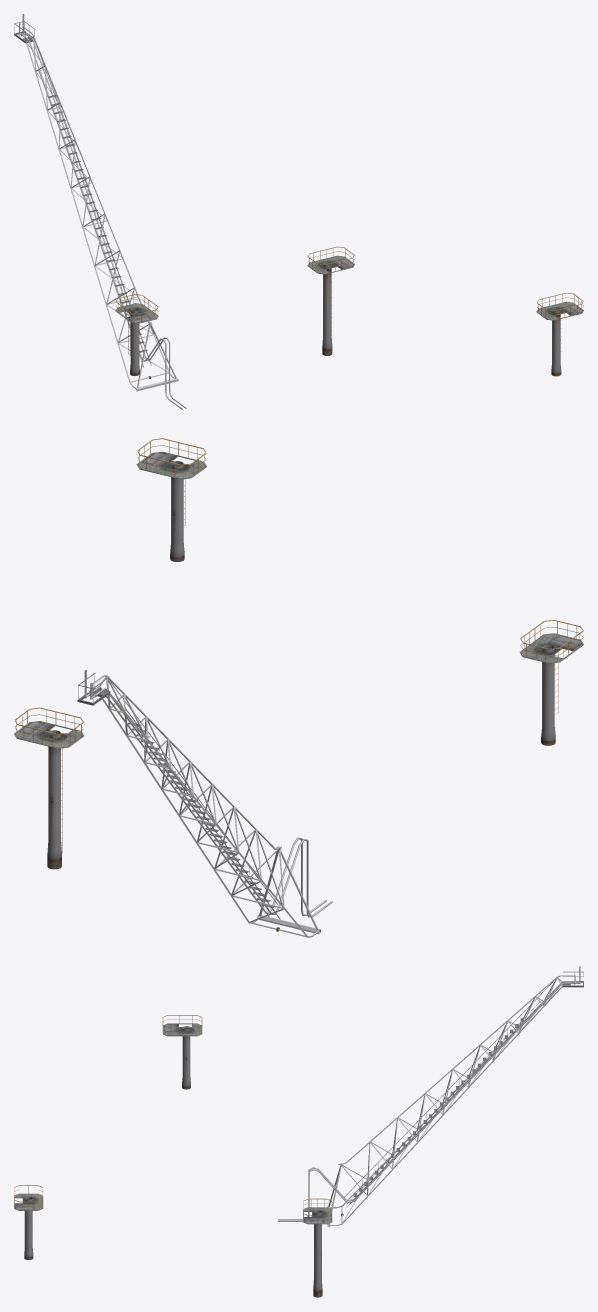
The model's file is oilRig_cranes_AST.fbx.
3 views of the same model, one above another, from view 1: azimuth 30°, elevation 25°; view 2: azimuth 150°, elevation 25°; view 3: azimuth 270°, elevation 25° (orthographic). The views are drawn at different scales.
Parts seen in each view (by area): view 1: cranes_AST; view 2: cranes_AST; view 3: cranes_AST.
Part boxes in pixels (x1,y1,x2,y2): cranes_AST: (14, 14, 583, 409); cranes_AST: (14, 438, 583, 937); cranes_AST: (14, 966, 583, 1297).
Size of the model in its own units: 4360 by 3085 by 6237.
